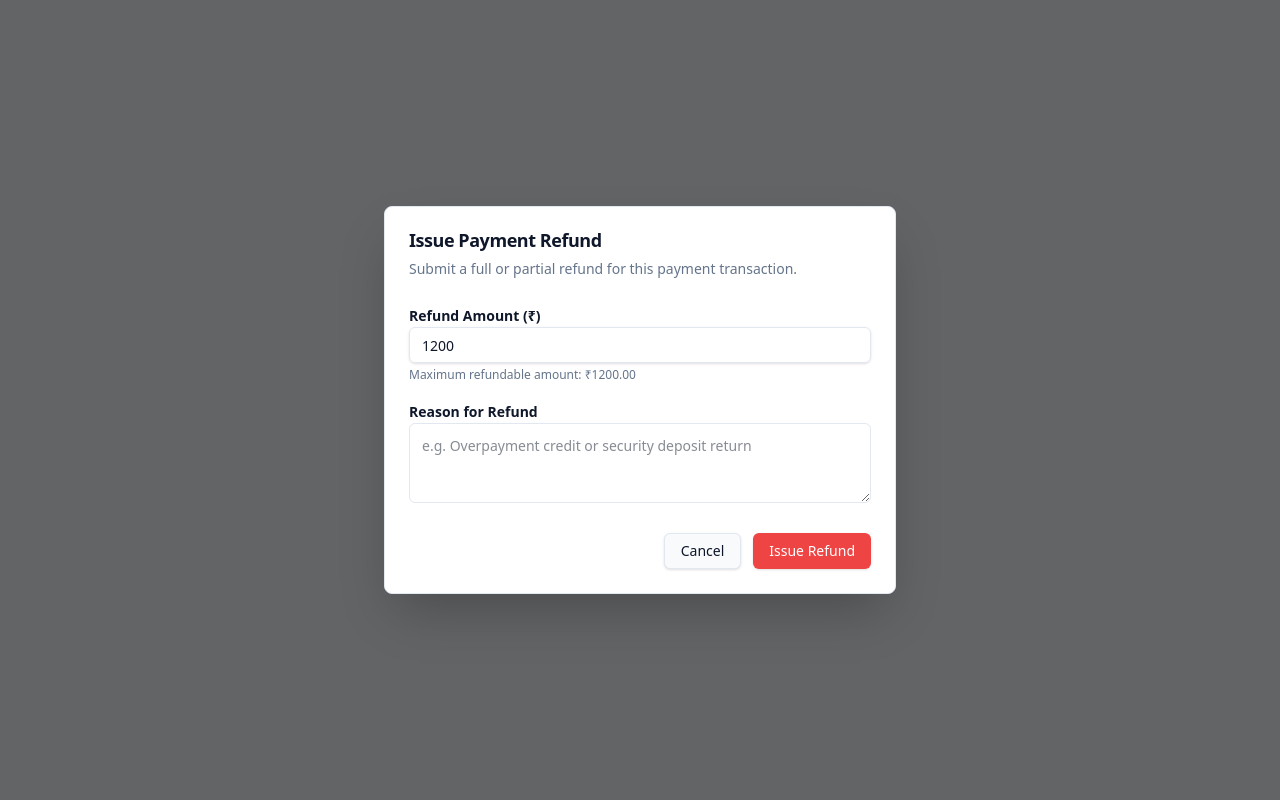
Test: Payment Feature Components › RefundDialog › should validate that refund reason is required
The width and height of the screenshot is (1280, 800).
Click the button "Issue Refund".
click(812, 551)  # box [753,533,871,569]
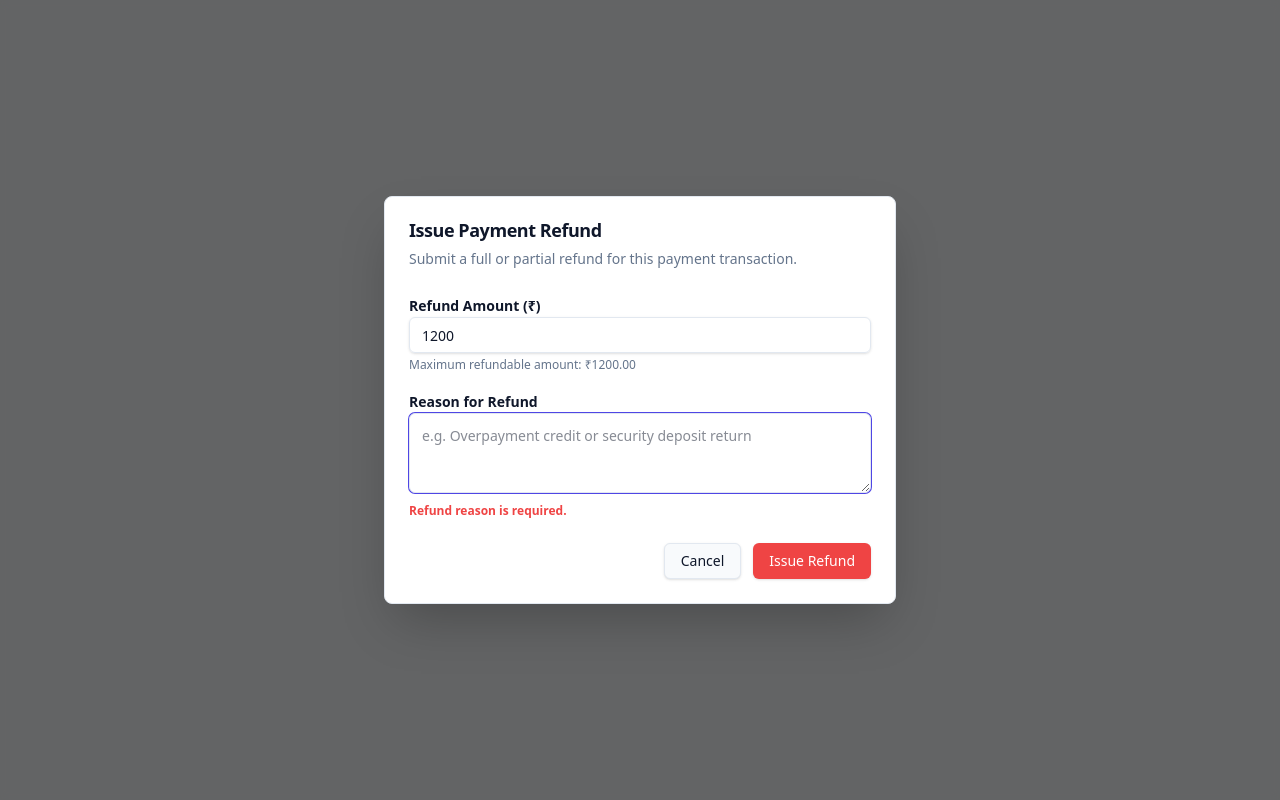
expect the text "Refund reason is required." is shown: met, box [409,502,567,519]
